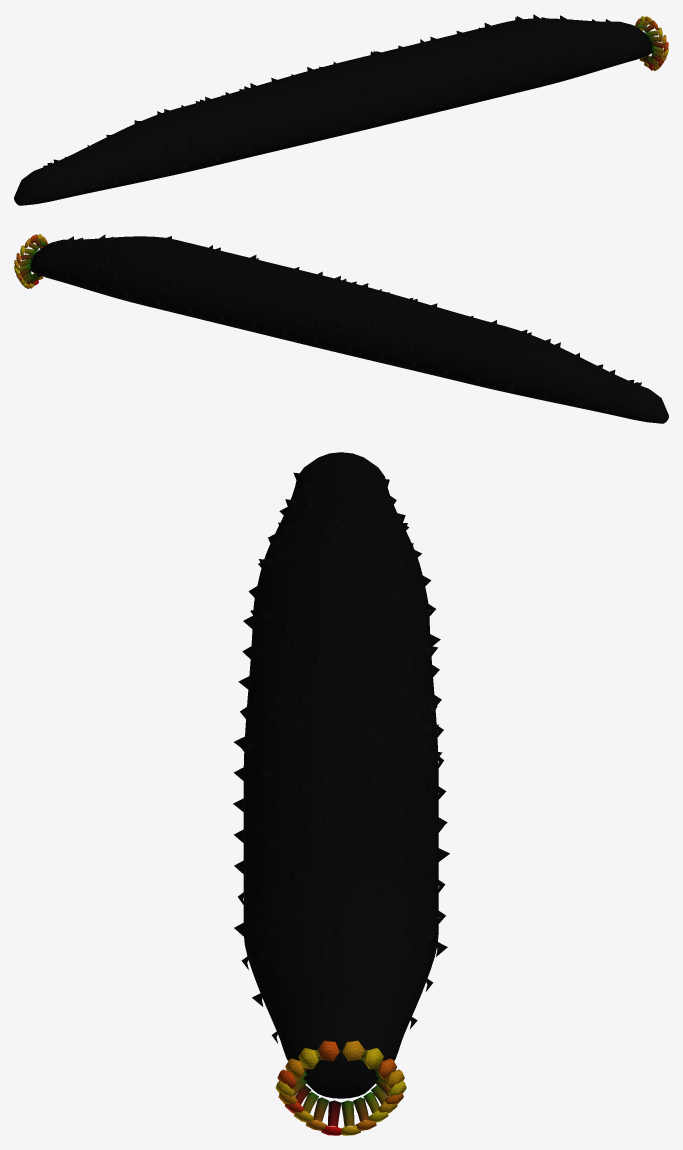
Rendered from tiger_tail_cucumber.glb.
3 views of the same model, one above another, from view 1: azimuth 30°, elevation 25°; view 2: azimuth 150°, elevation 25°; view 3: azimuth 270°, elevation 25° (orthographic). The views are drawn at different scales.
Visible parts, largest first — view 1: Body, Papillae, Tentacles; view 2: Body, Papillae, Tentacles; view 3: Body, Papillae, Tentacles.
Boxes of the visible parts, x1,y1,x2,y2 form: Body: (14,18,652,205); Papillae: (43,14,628,193); Tentacles: (634,16,668,71); Body: (30,236,668,423); Papillae: (53,234,641,414); Tentacles: (14,234,48,288); Body: (243,452,438,1098); Papillae: (233,458,449,1043); Tentacles: (275,1040,406,1135).
Size of the model in its own units: 0.9887 by 0.1144 by 0.1451.
1 material, 1 textured.
